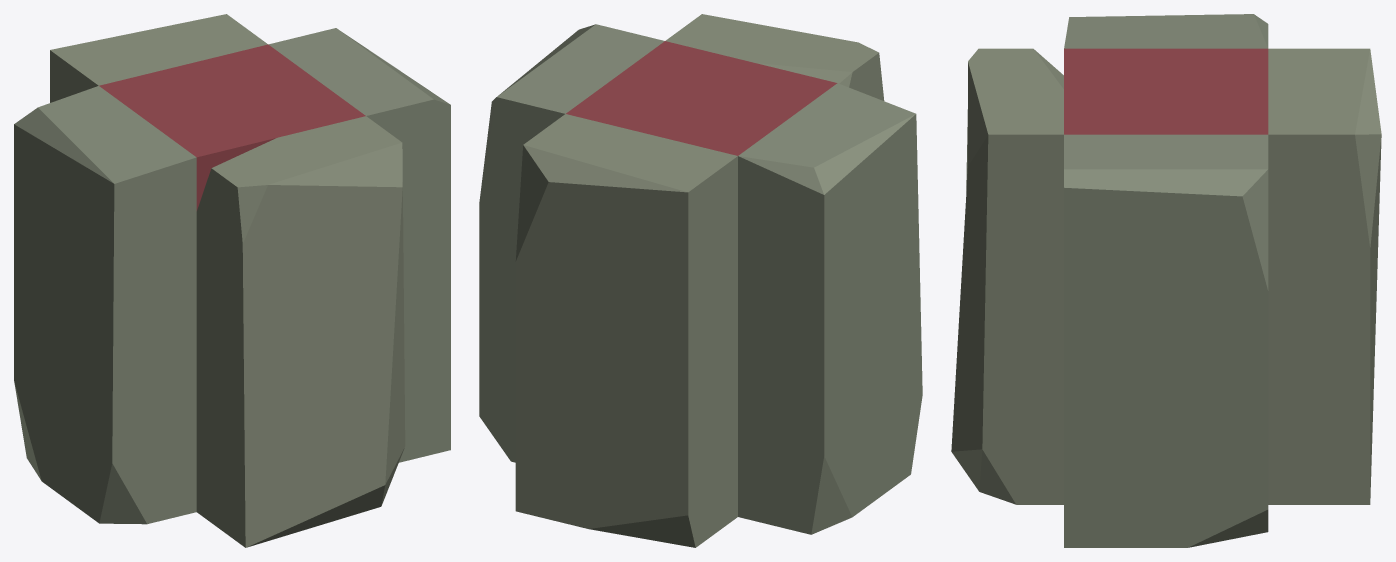
The model's file is pillar_large_segment_1.fbx.
The picture shows the model from 3 angles, left to right: view 1: azimuth 30°, elevation 25°; view 2: azimuth 150°, elevation 25°; view 3: azimuth 270°, elevation 25°; orthographic projection. The views are drawn at different scales.
Parts seen in each view (by area): view 1: pillar_large_segment_1; view 2: pillar_large_segment_1; view 3: pillar_large_segment_1.
Part boxes in pixels (bbox=[...]): pillar_large_segment_1: bbox=[14, 14, 450, 547]; pillar_large_segment_1: bbox=[479, 14, 922, 547]; pillar_large_segment_1: bbox=[951, 14, 1381, 547].
Size of the model in its own units: 100 by 100 by 105.
